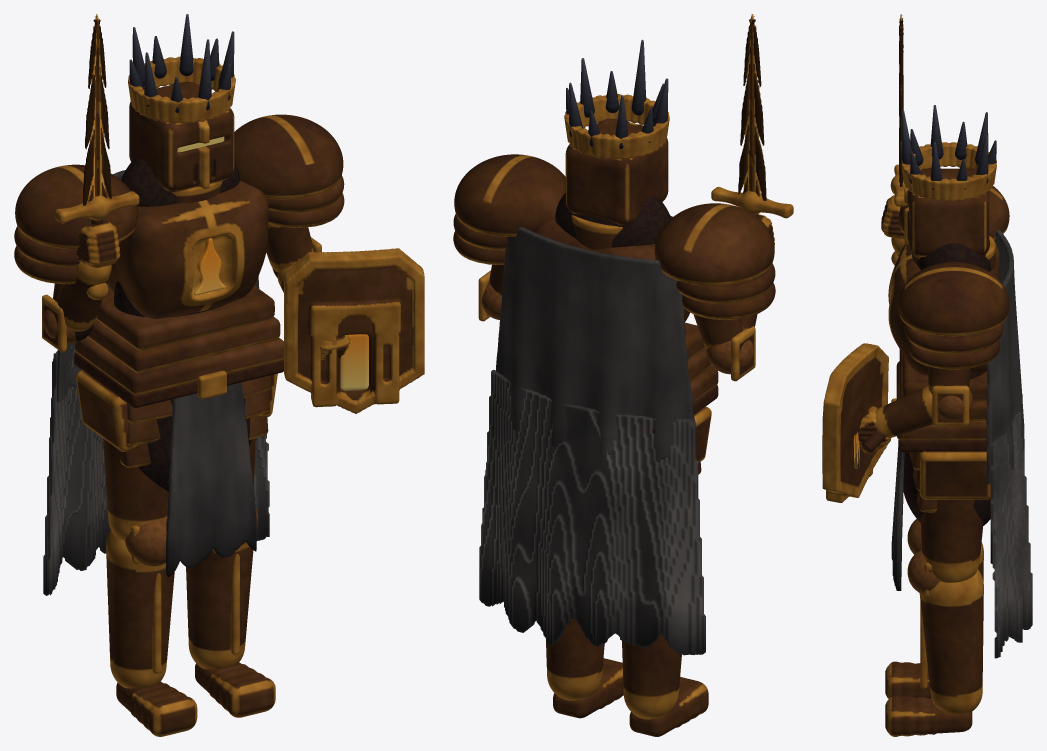
File: ashen-warden-sculpt.glb
3 renders of one model, left to right at view 1: azimuth 30°, elevation 25°; view 2: azimuth 150°, elevation 25°; view 3: azimuth 270°, elevation 25°, orthographic. The views are drawn at different scales.
Parts seen in each view (by area): view 1: ashen-warden_sculpt; view 2: ashen-warden_sculpt; view 3: ashen-warden_sculpt.
Boxes of the visible parts, x1=… form: ashen-warden_sculpt: x1=14, y1=14, x2=424, y2=736; ashen-warden_sculpt: x1=453, y1=14, x2=793, y2=736; ashen-warden_sculpt: x1=822, y1=14, x2=1032, y2=736.
Size of the model in its own units: 1.11 by 2.32 by 0.6806.
